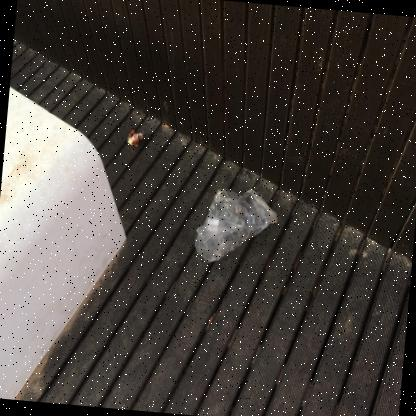Cigarette: (164, 124, 169, 128)
Plastic film: (195, 189, 277, 262), (127, 127, 146, 146)
